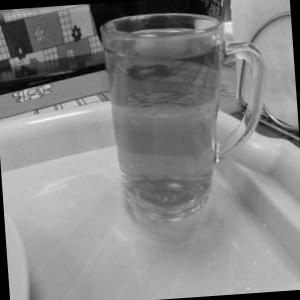tea: (88, 0, 250, 239)
